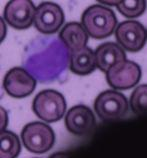M: (21, 34, 71, 82)
